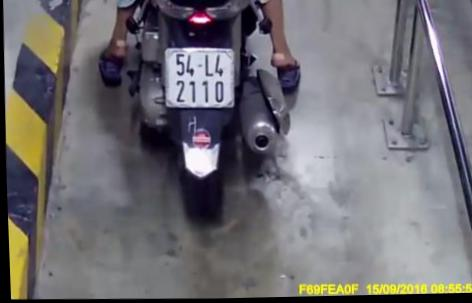LP: (160, 46, 237, 111)
